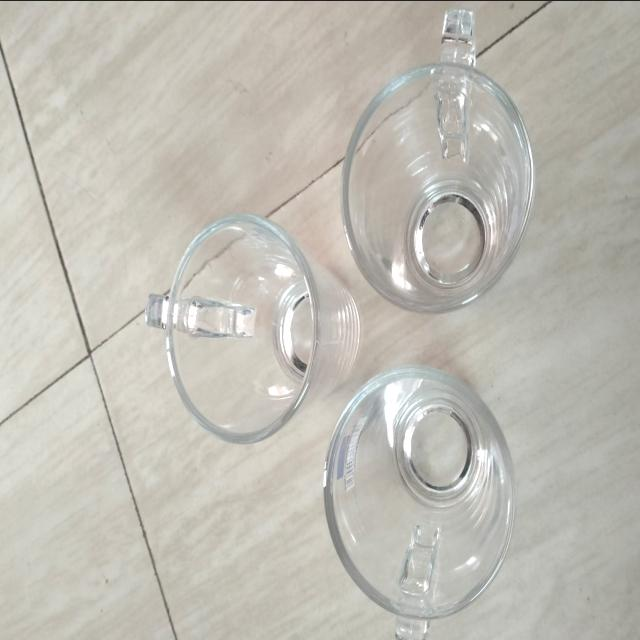glass-VX4N: (343, 3, 543, 320), (324, 363, 516, 640), (144, 210, 358, 443)
